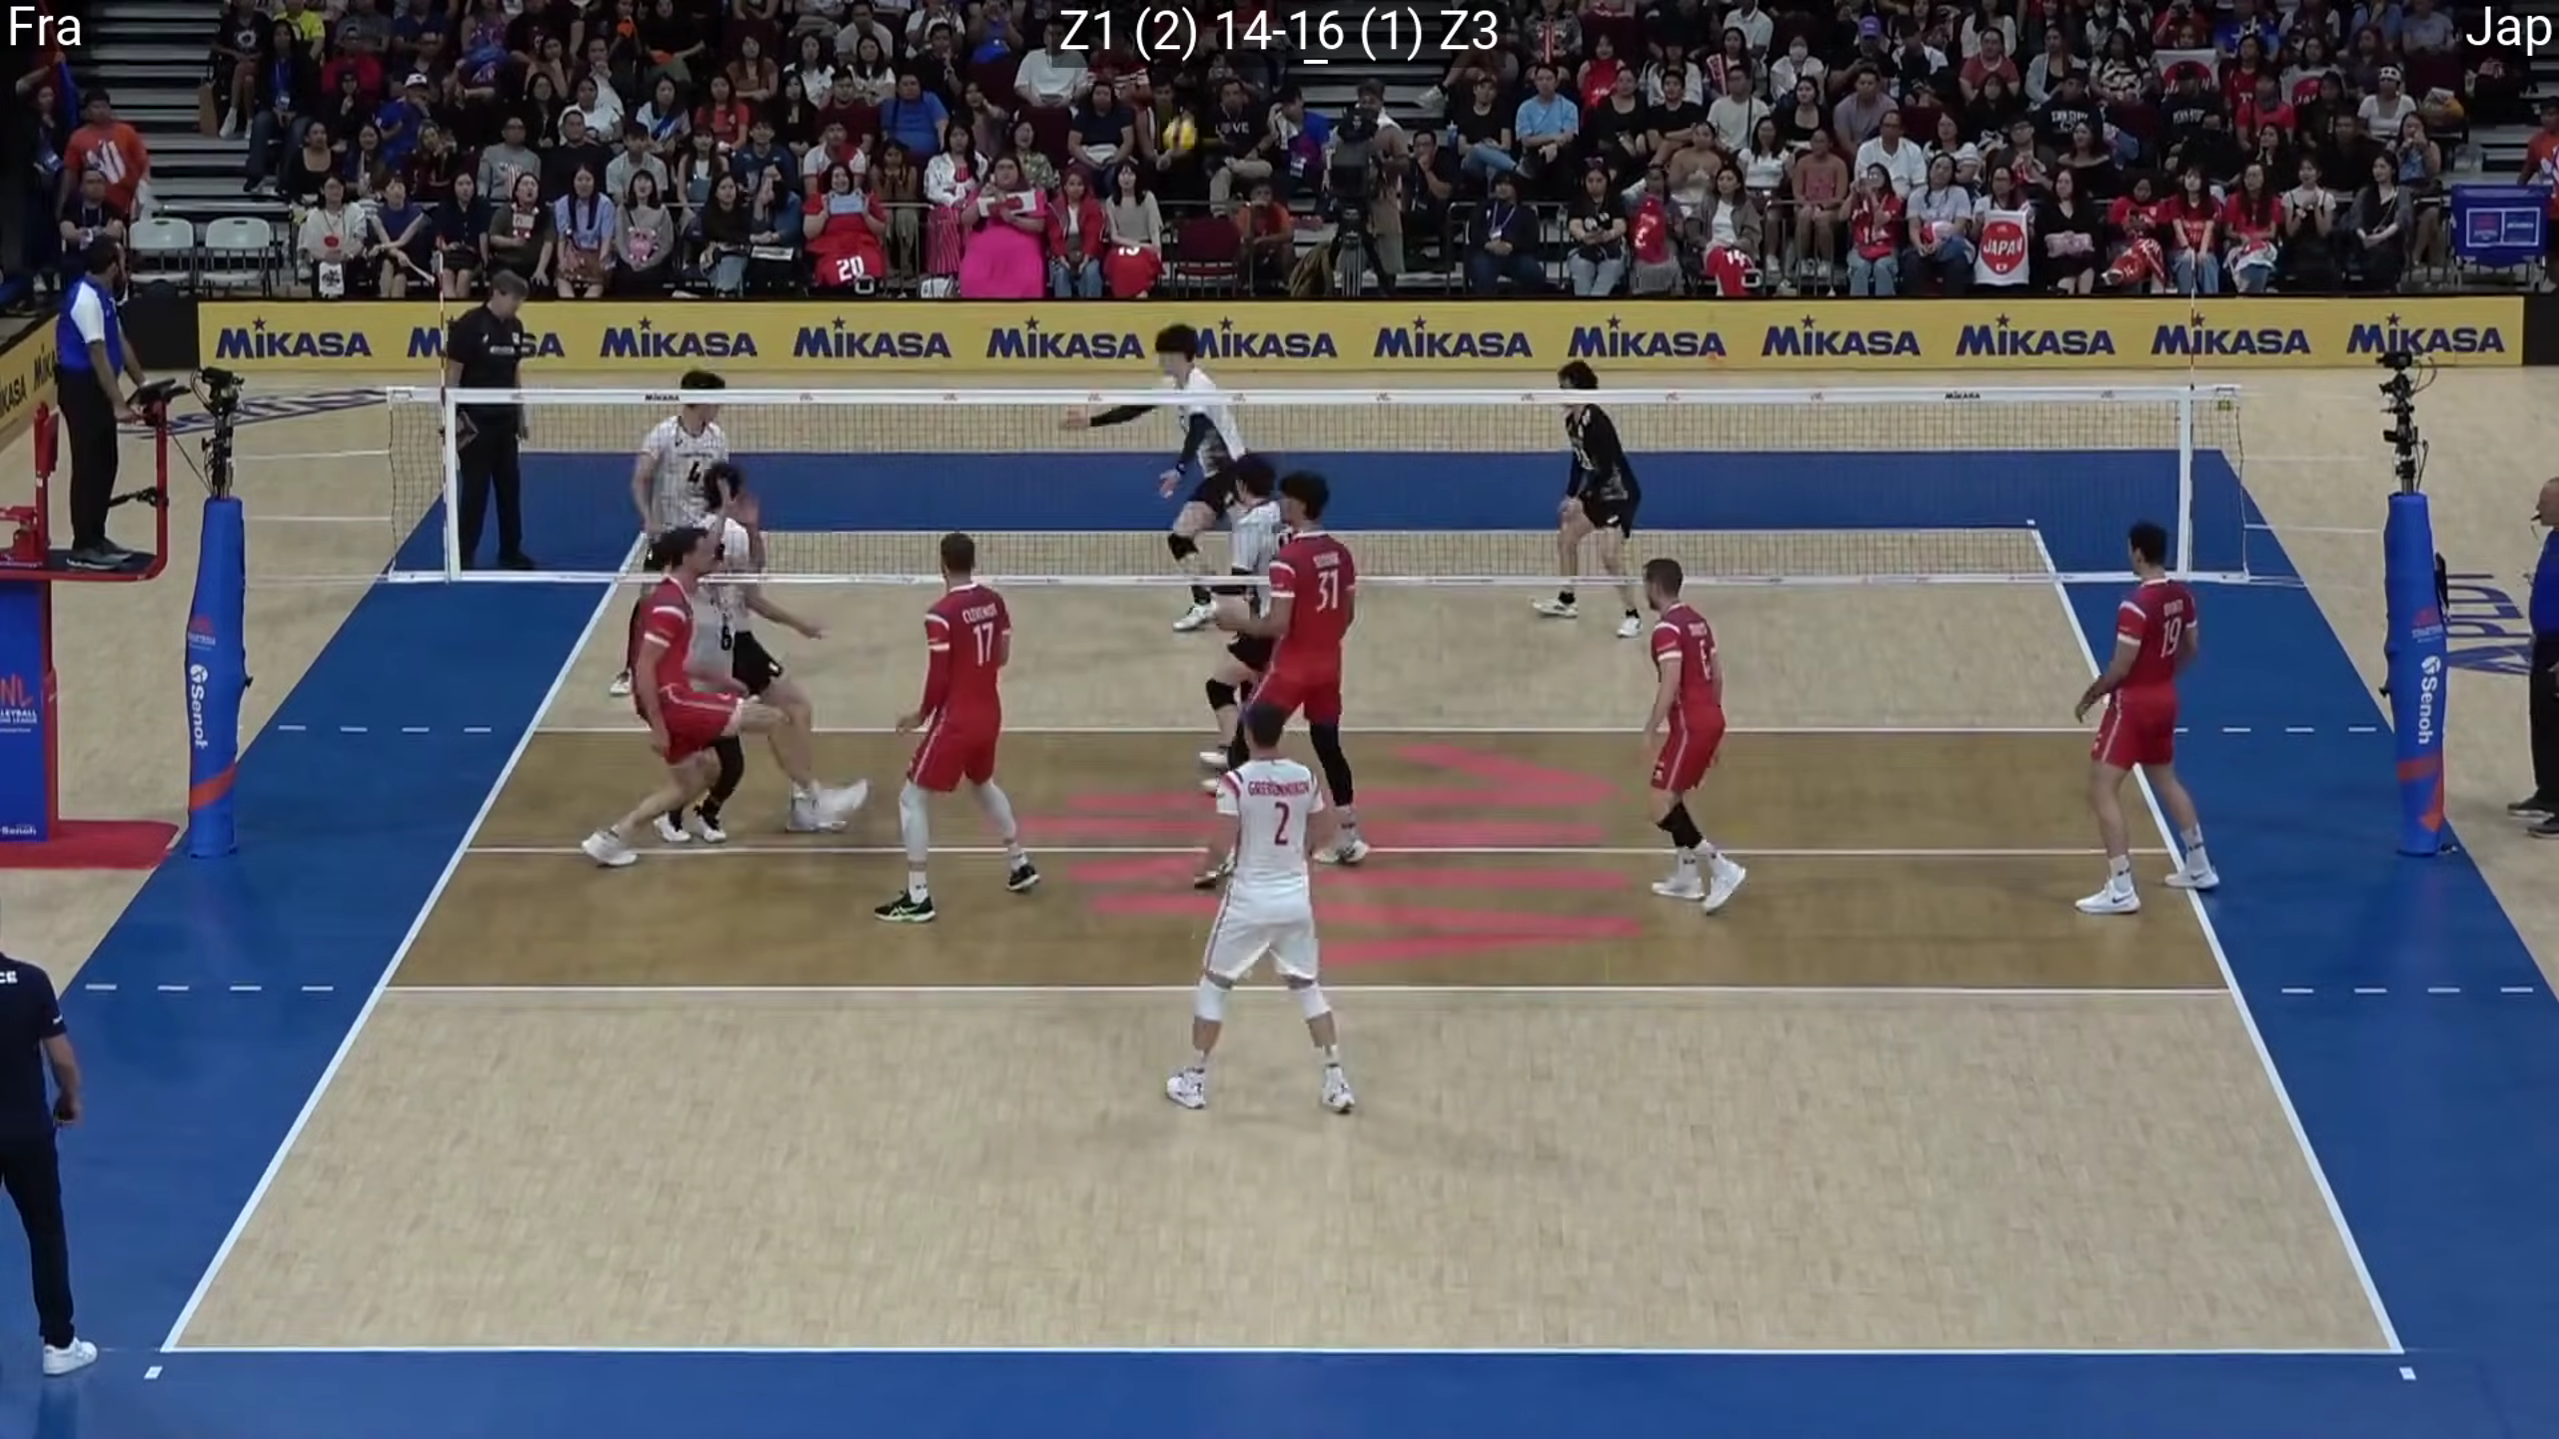Ball: (1160, 111, 1199, 153)
